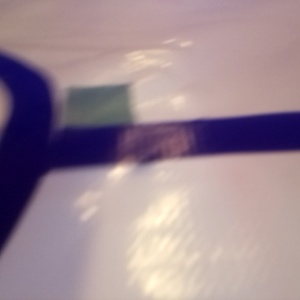top_left: (178, 110, 300, 176)
